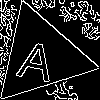A: (15, 31, 60, 83)
